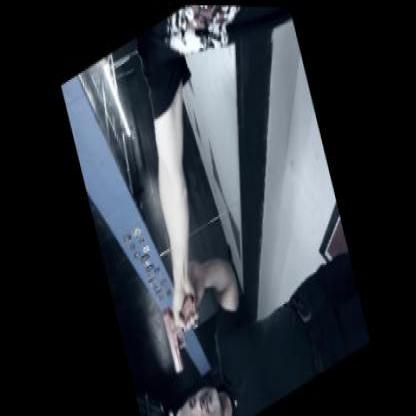pistol: (156, 288, 206, 377)
